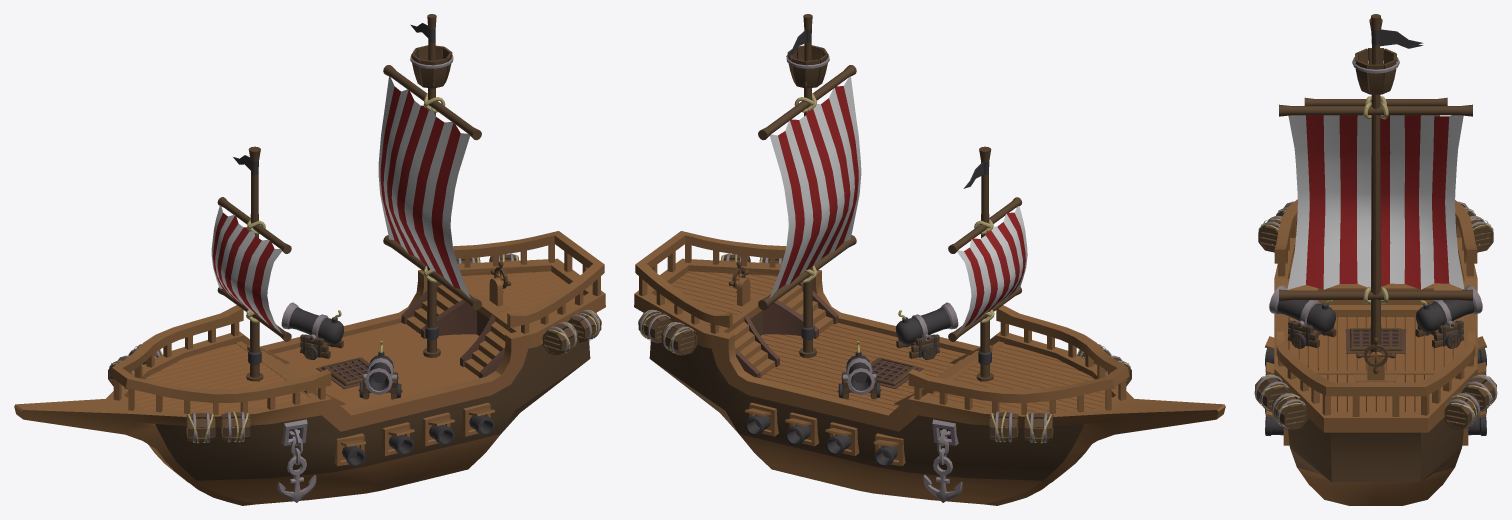
File: ship_custom.glb
3 renders of one model, left to right at view 1: azimuth 30°, elevation 25°; view 2: azimuth 150°, elevation 25°; view 3: azimuth 270°, elevation 25°, orthographic. The views are drawn at different scales.
Visible parts, largest first — view 1: Ship_Large; view 2: Ship_Large; view 3: Ship_Large.
Boxes of the visible parts, x1,y1,x2,y2 form: Ship_Large: (14,14,605,505); Ship_Large: (634,14,1225,505); Ship_Large: (1254,14,1497,505).
Size of the model in its own units: 68.58 by 51.01 by 23.56.
1 material, 1 textured.
